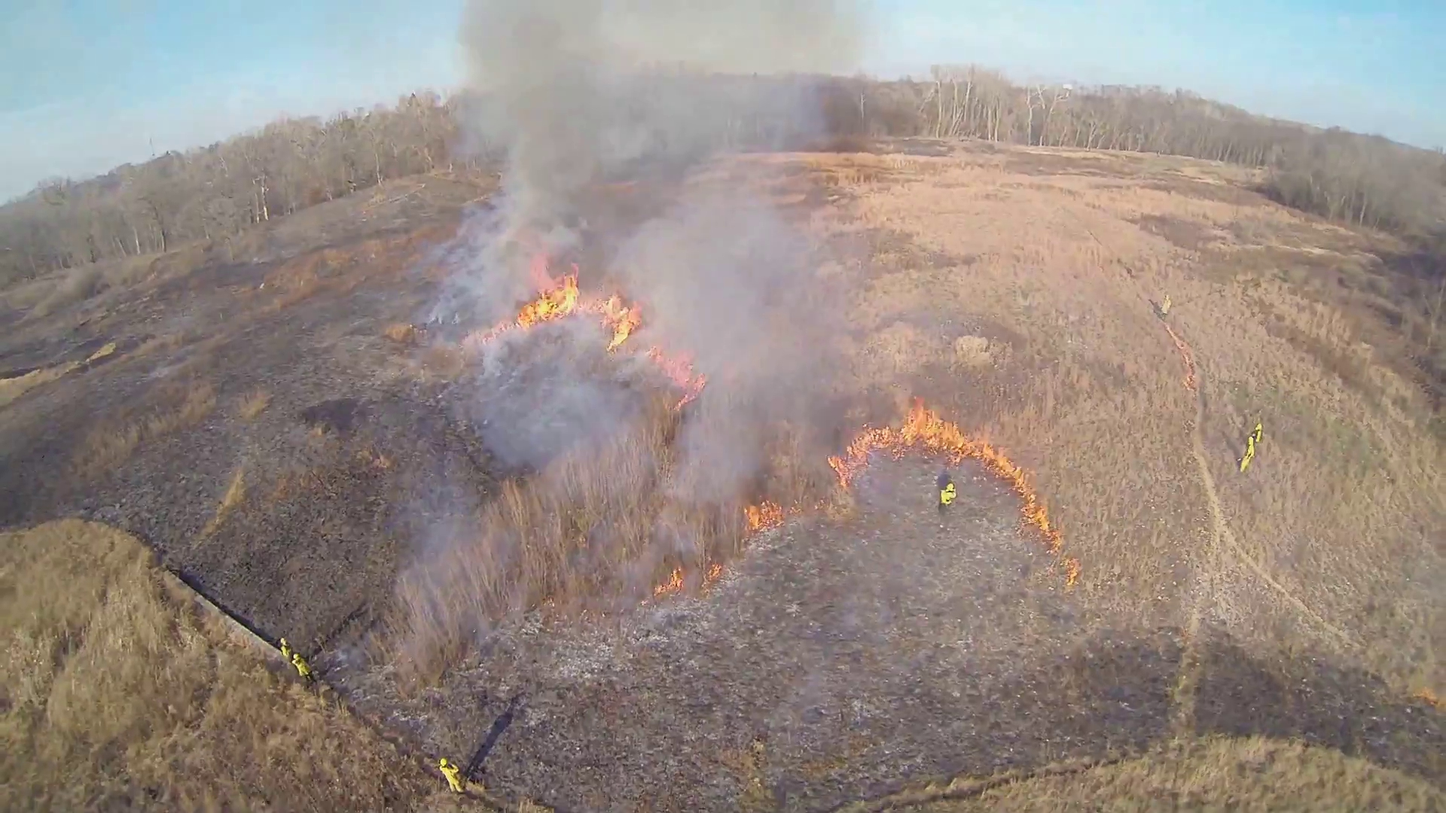forest_fire: (828, 399, 1080, 587), (464, 266, 640, 352), (646, 347, 706, 410), (743, 501, 813, 534), (654, 568, 687, 596)
